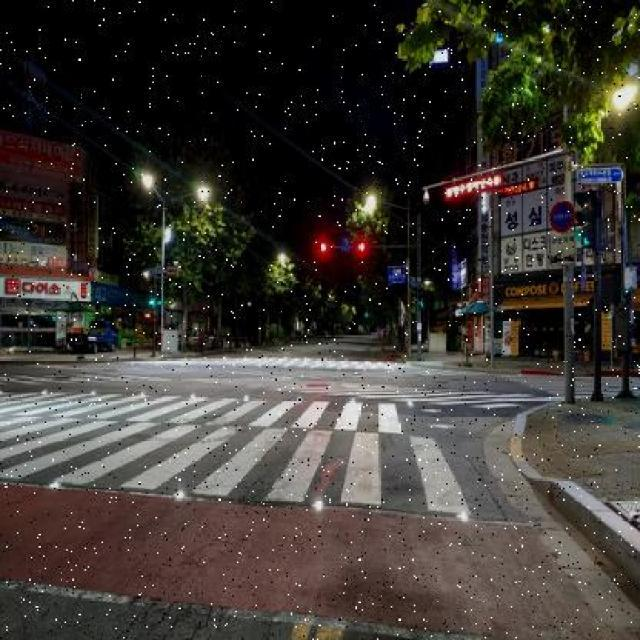crosswalk: (1, 417, 472, 515), (0, 389, 402, 430), (504, 375, 640, 402), (168, 357, 408, 368)
